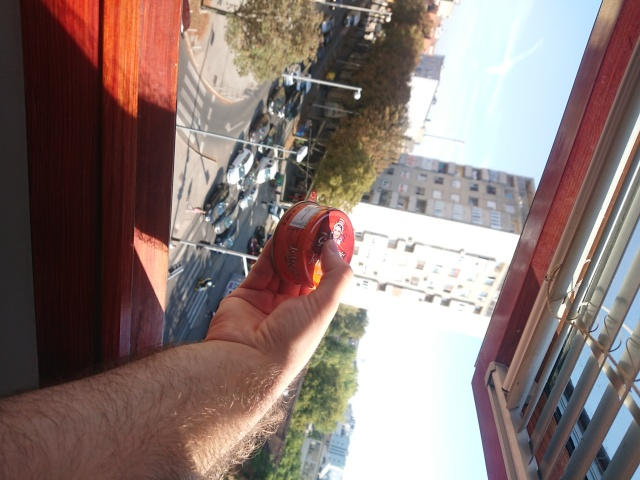Gavrilovic Pork Liver Pate 100g: (267, 197, 356, 292)
